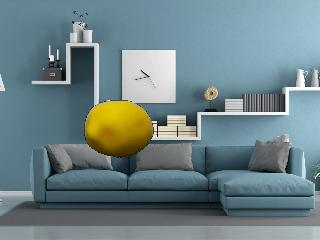lemon: (85, 100, 154, 158)
